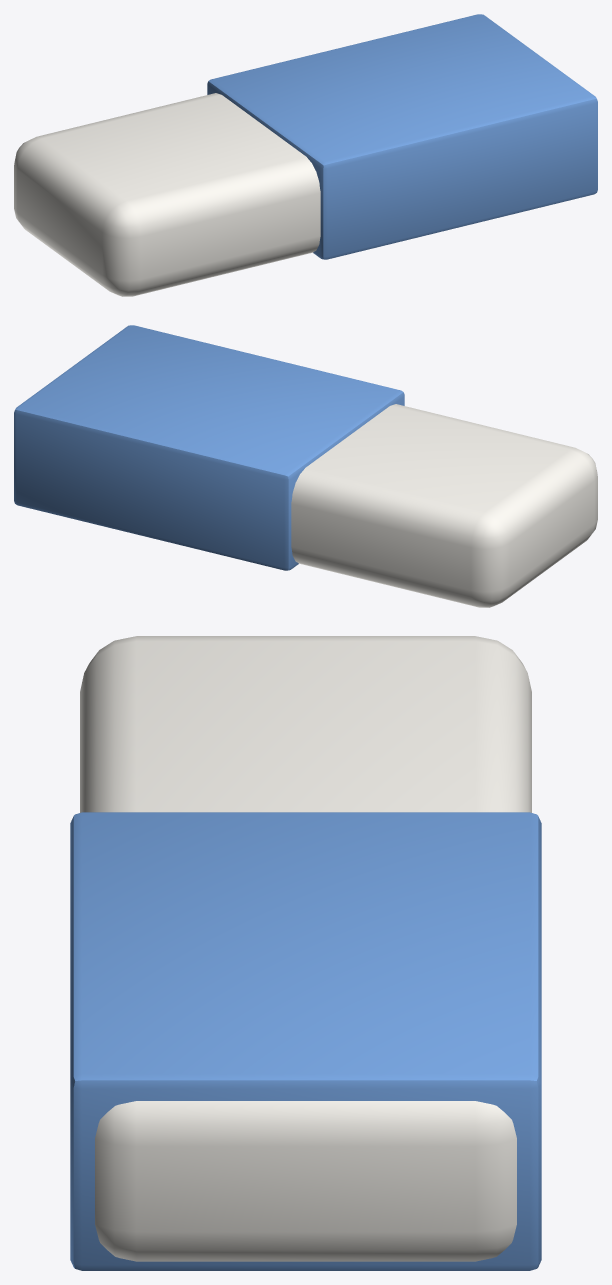
File: eraser.glb
3 views of the same model, one above another, from view 1: azimuth 30°, elevation 25°; view 2: azimuth 150°, elevation 25°; view 3: azimuth 270°, elevation 25° (orthographic). The views are drawn at different scales.
Visible parts, largest first — view 1: Eraser; view 2: Eraser; view 3: Eraser.
Boxes of the visible parts, <box> form: Eraser: <box>14,14,597,296</box>; Eraser: <box>14,325,597,607</box>; Eraser: <box>70,636,541,1270</box>.
Size of the model in its own units: 0.6 by 0.115 by 0.25.
